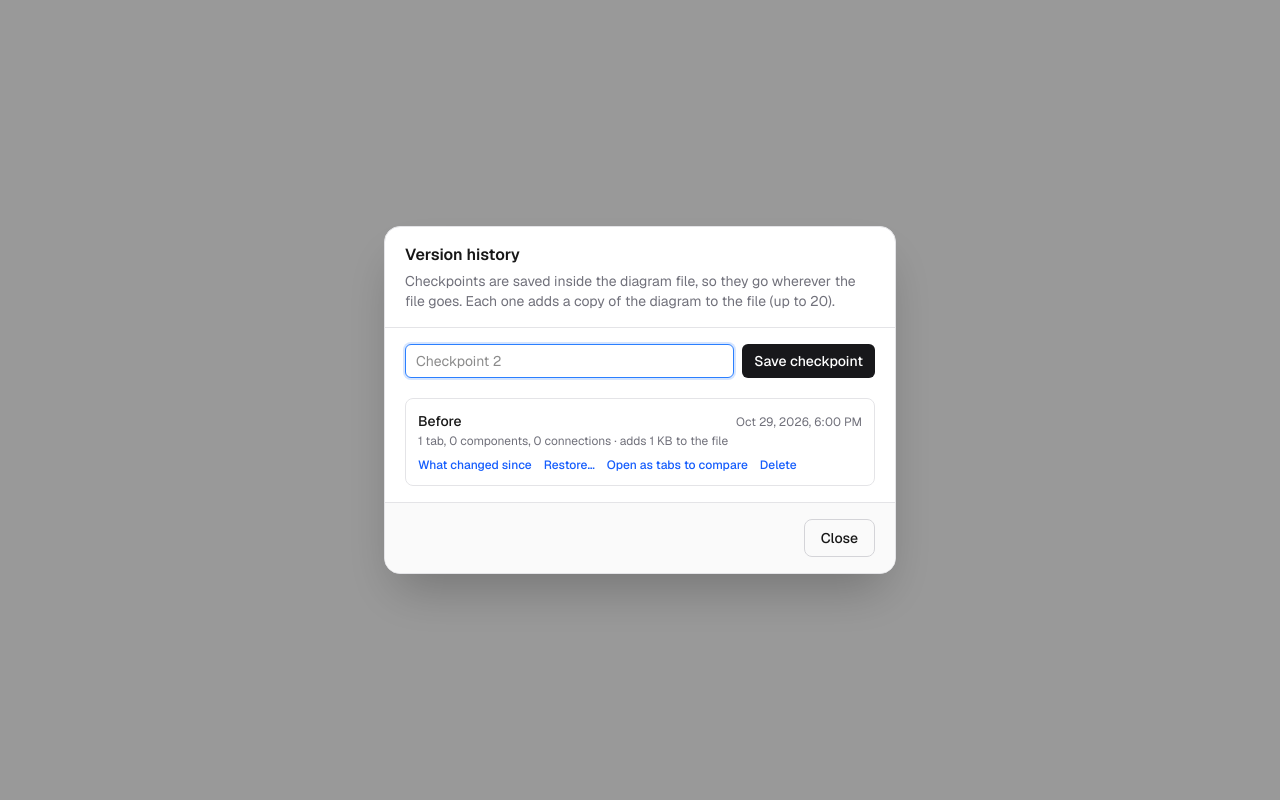
Test: HistoryDialog › can be backed out of without restoring
Click the button "Restore…" at x=569, y=465, box [544,457,595,473]
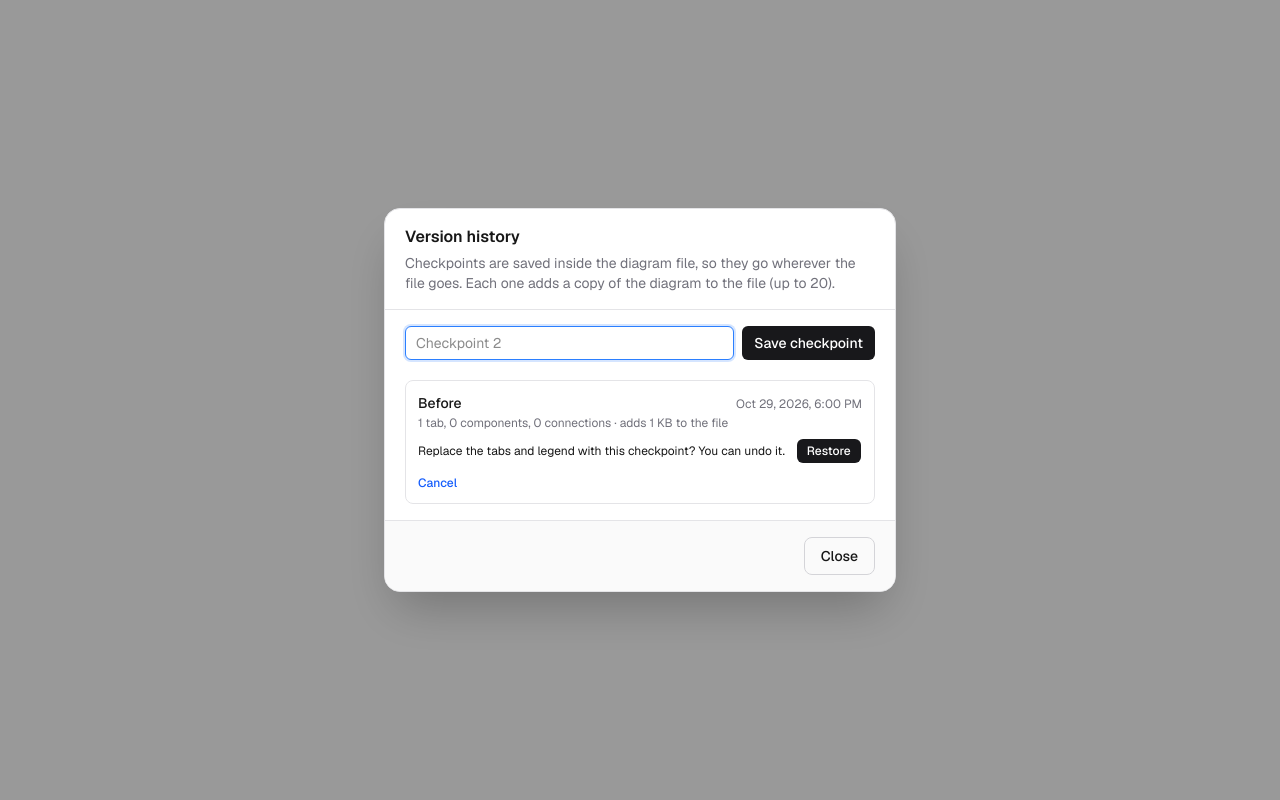
Click the button "Cancel" at x=438, y=483, box [418,475,457,491]
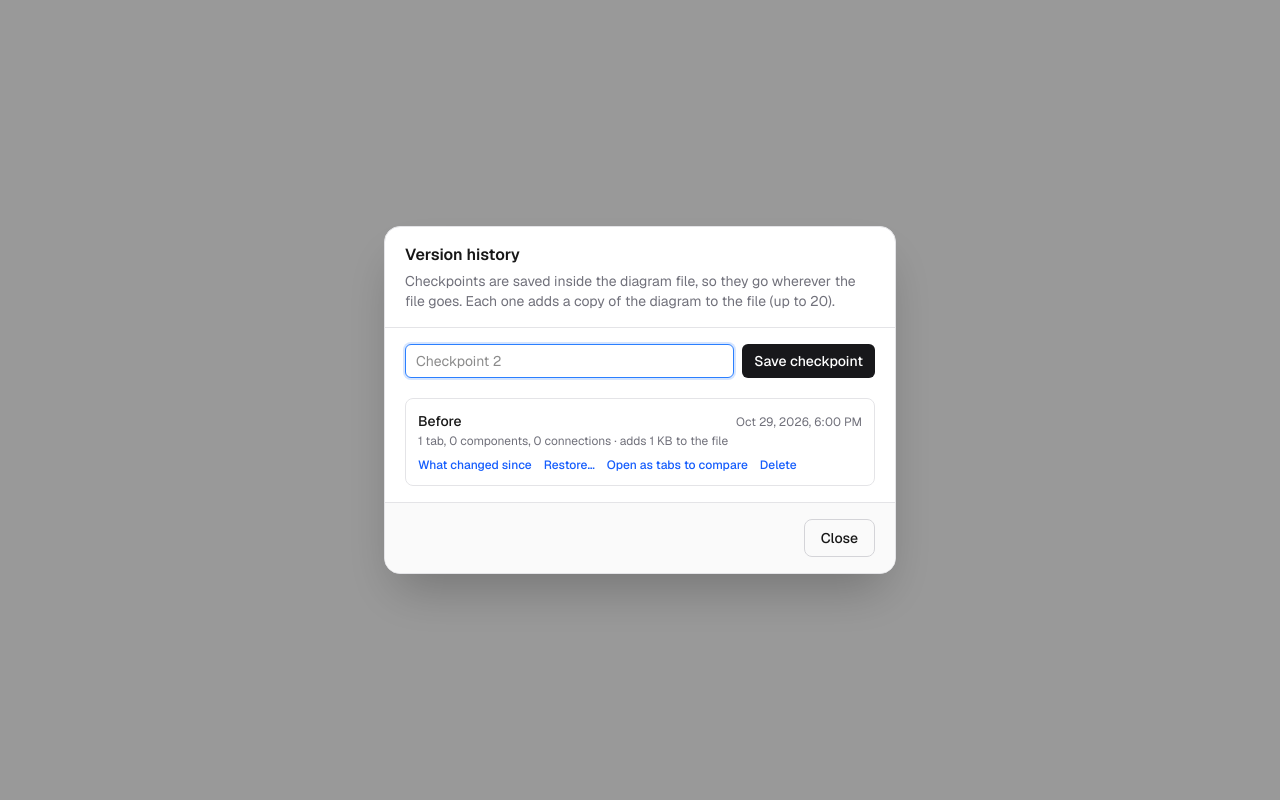
Expected: the button "Restore…" is shown, [544,457,595,473]
